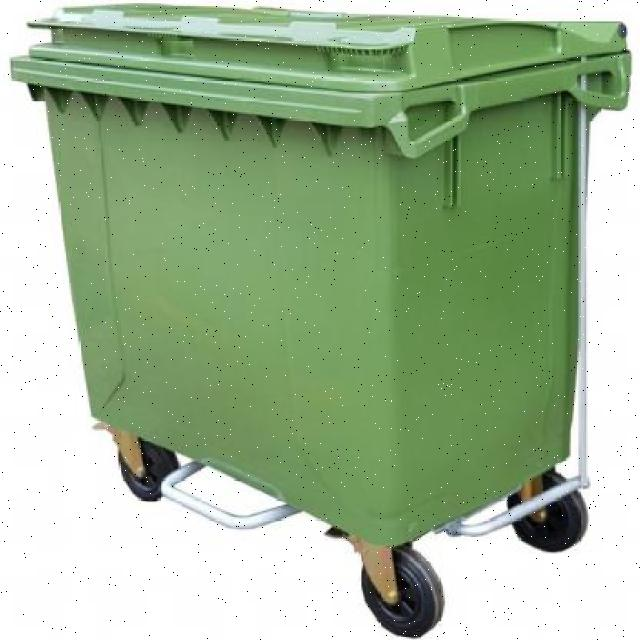garbage container: (1, 1, 636, 627)
